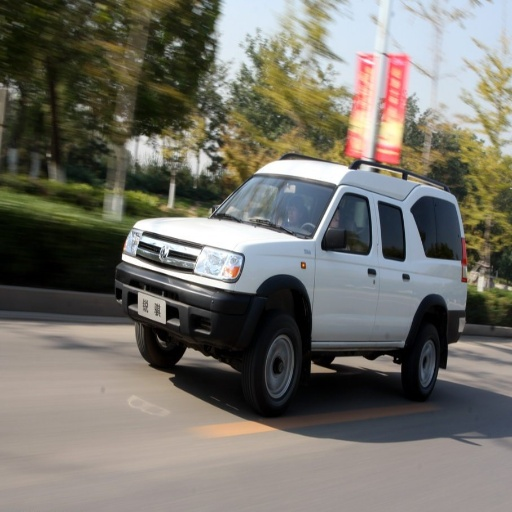front_bumper: (116, 236, 258, 354)
front_glass: (213, 174, 334, 236)
front_left_door: (315, 190, 378, 340)
trunk: (406, 258, 465, 330)
